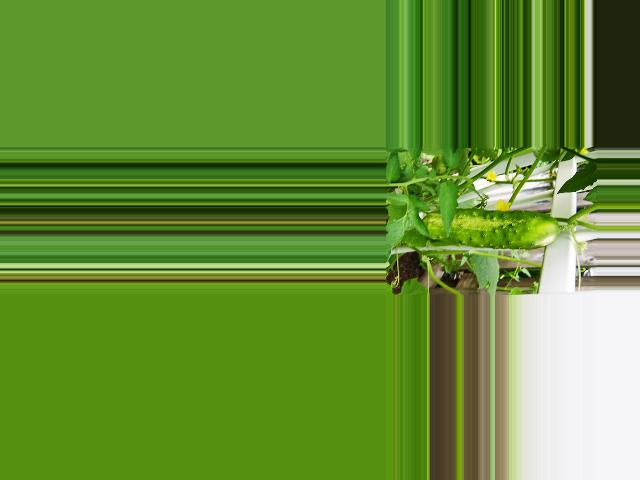cucumber: (423, 210, 560, 249)
